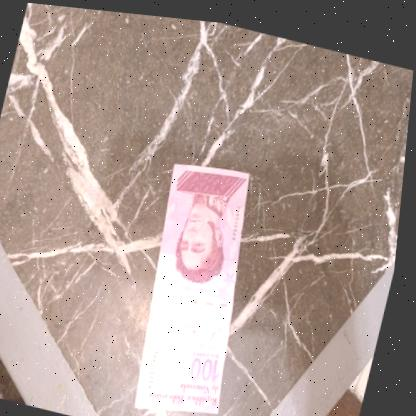one_hundred-front-vef: (123, 147, 278, 416)
